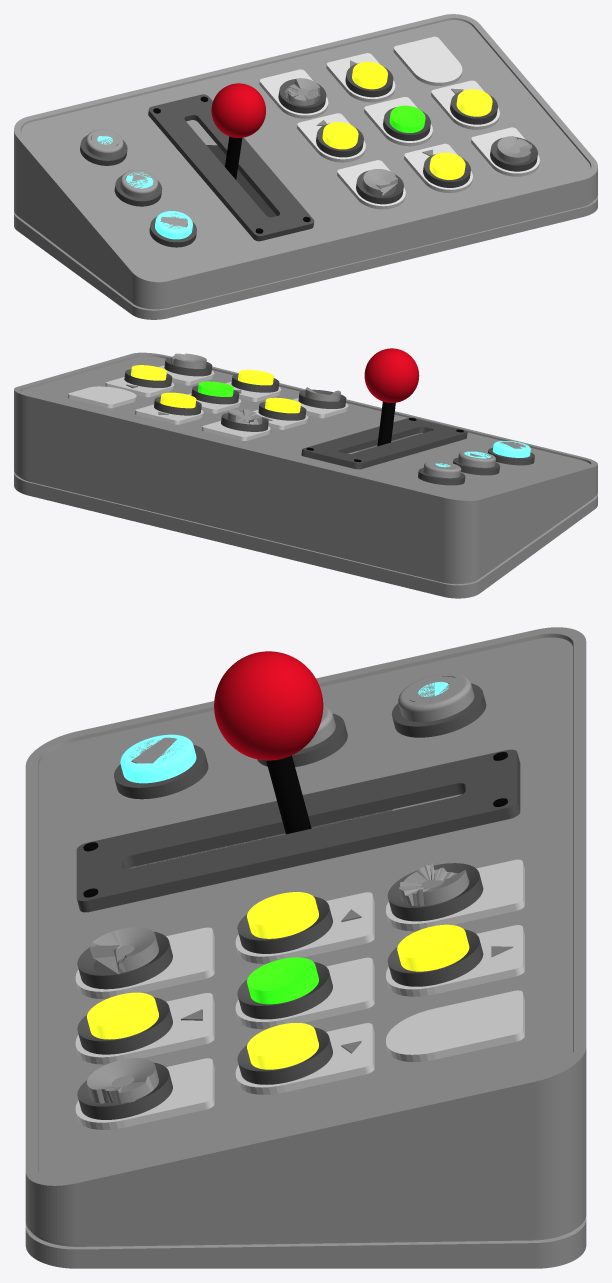
The model's file is comtrolpanel2.fbx.
The picture shows the model from 3 angles, top to bottom: view 1: azimuth 30°, elevation 25°; view 2: azimuth 150°, elevation 25°; view 3: azimuth 270°, elevation 25°; orthographic projection. The views are drawn at different scales.
Parts seen in each view (by area): view 1: 큐브.002, 큐브, 구체, 큐브.010, 큐브.009, 큐브.012, 큐브.003, 큐브.007, 큐브.011, 큐브.001, 큐브.006, 큐브.008 (+23 smaller); view 2: 큐브.002, 큐브, 구체, 큐브.010, 큐브.012, 큐브.011, 실린더, 큐브.001, 실린더.041, 실린더.007, 실린더.044, 실린더.039 (+22 smaller); view 3: 큐브.002, 큐브, 구체, 큐브.010, 큐브.009, 큐브.003, 큐브.007, 큐브.012, 큐브.001, 큐브.011, 큐브.006, 큐브.008 (+22 smaller).
Part boxes in pixels (<box>): 큐브.002: <box>14,14,597,319</box>; 큐브: <box>148,94,314,241</box>; 구체: <box>211,83,265,137</box>; 큐브.010: <box>393,36,462,85</box>; 큐브.009: <box>471,127,539,176</box>; 큐브.012: <box>259,69,328,118</box>; 큐브.003: <box>364,97,432,146</box>; 큐브.007: <box>337,160,405,209</box>; 큐브.011: <box>326,53,395,102</box>; 큐브.001: <box>431,80,499,129</box>; 큐브.006: <box>297,113,365,162</box>; 큐브.008: <box>404,143,472,192</box>; 큐브.002: <box>14,352,597,598</box>; 큐브: <box>301,418,467,469</box>; 구체: <box>364,348,419,402</box>; 큐브.010: <box>67,386,136,408</box>; 큐브.012: <box>201,421,270,440</box>; 큐브.011: <box>134,404,203,424</box>; 실린더: <box>377,401,395,446</box>; 큐브.001: <box>105,377,174,397</box>; 실린더.041: <box>298,389,346,408</box>; 실린더.007: <box>423,461,461,478</box>; 실린더.044: <box>238,369,273,385</box>; 실린더.039: <box>265,397,300,413</box>; 큐브.002: <box>25,627,586,1268</box>; 큐브: <box>76,749,520,912</box>; 구체: <box>214,651,323,760</box>; 큐브.010: <box>386,990,524,1061</box>; 큐브.009: <box>75,1058,214,1129</box>; 큐브.003: <box>235,957,374,1029</box>; 큐브.007: <box>75,927,214,998</box>; 큐브.012: <box>386,859,524,931</box>; 큐브.001: <box>235,1023,374,1094</box>; 큐브.011: <box>386,925,524,996</box>; 큐브.006: <box>235,892,374,963</box>; 큐브.008: <box>75,993,214,1064</box>.
Bounding box in the file's own units: 282 × 94.5 × 148.
